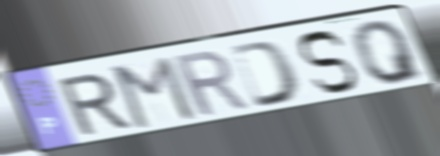D: (227, 37, 303, 110)
M: (110, 53, 200, 131)
Q: (349, 17, 429, 87)
R: (169, 47, 253, 120), (55, 70, 134, 139)
S: (295, 28, 361, 96)
